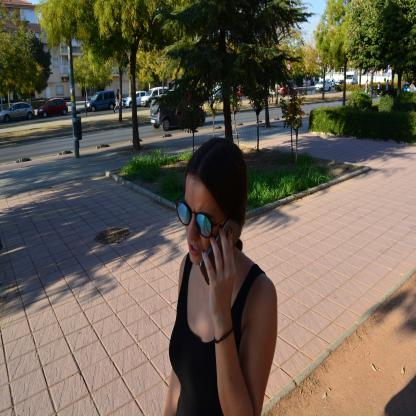smartphone: (199, 218, 241, 286)
